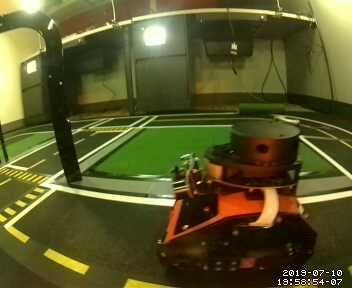pheeno: (158, 117, 319, 268)
